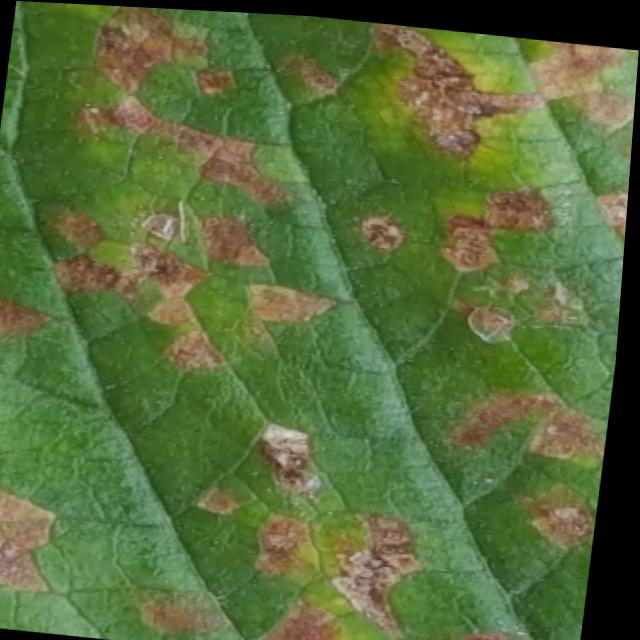Angular Leafspot: (0, 1, 639, 640)
